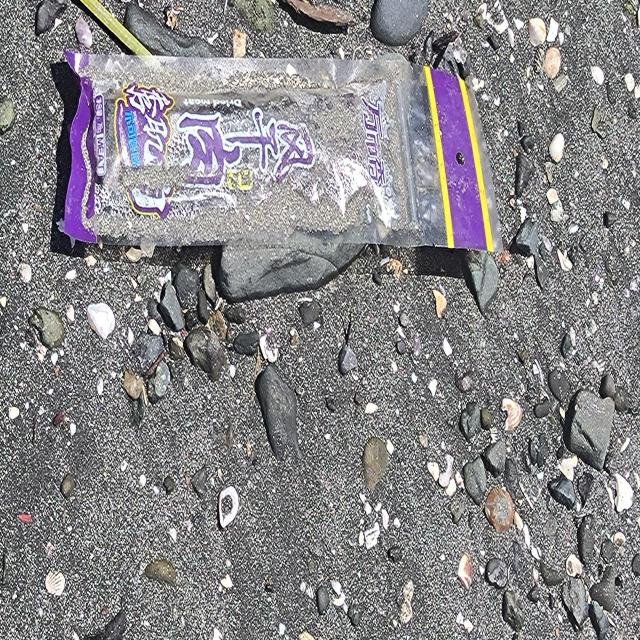plastic_waste: (56, 50, 505, 256)
